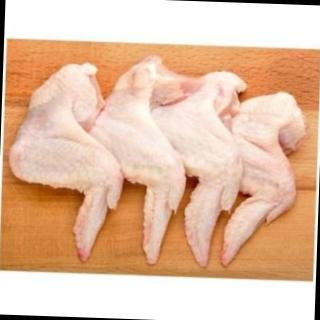Ayam: (9, 58, 310, 271), (9, 60, 127, 265), (89, 55, 197, 267), (153, 65, 247, 266), (223, 91, 310, 270)
